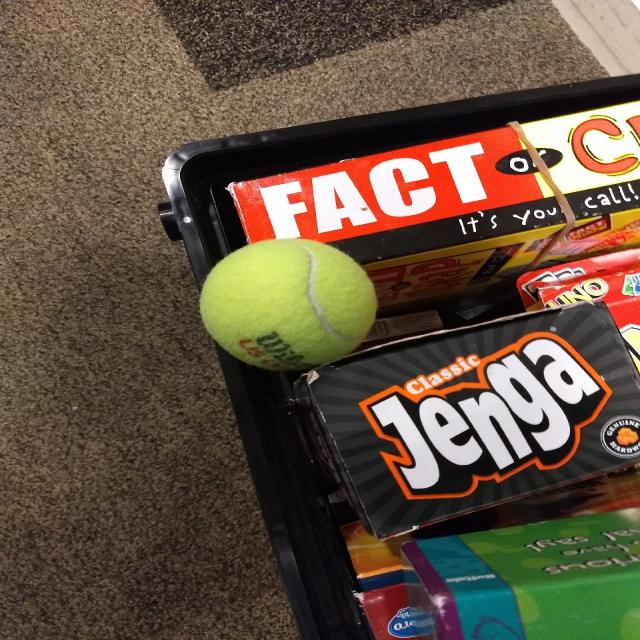Tennis-Ball: (199, 238, 379, 374)
